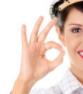left: (18, 14, 67, 80)
